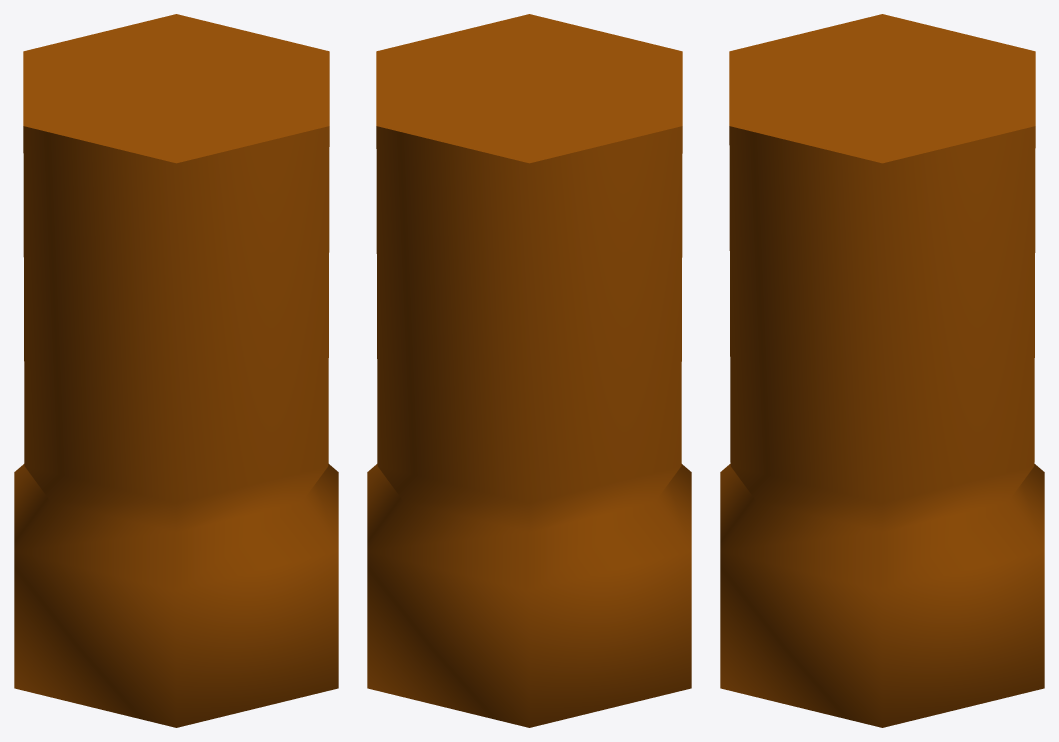
The model's file is Buffet_Feet.fbx.
The picture shows the model from 3 angles, left to right: view 1: azimuth 30°, elevation 25°; view 2: azimuth 150°, elevation 25°; view 3: azimuth 270°, elevation 25°; orthographic projection.
Visible parts, largest first — view 1: Buffet_Feet; view 2: Buffet_Feet; view 3: Buffet_Feet.
Boxes of the visible parts, bbox=[...] form: Buffet_Feet: bbox=[14, 14, 338, 727]; Buffet_Feet: bbox=[367, 14, 691, 727]; Buffet_Feet: bbox=[720, 14, 1044, 727].
Size of the model in its own units: 15.45 by 25.52 by 13.38.
